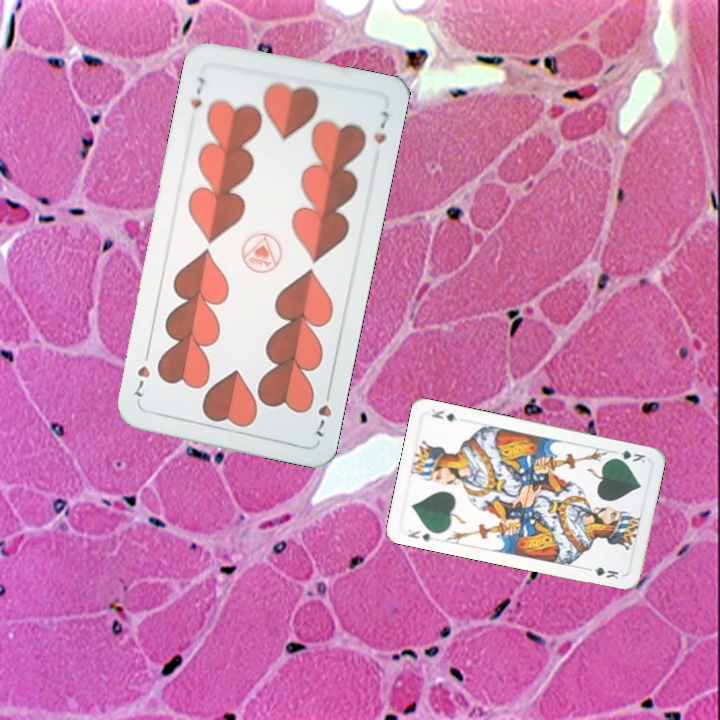GK: (608, 446, 648, 466), (404, 526, 437, 544)
H7: (311, 384, 334, 440), (186, 73, 207, 112)
